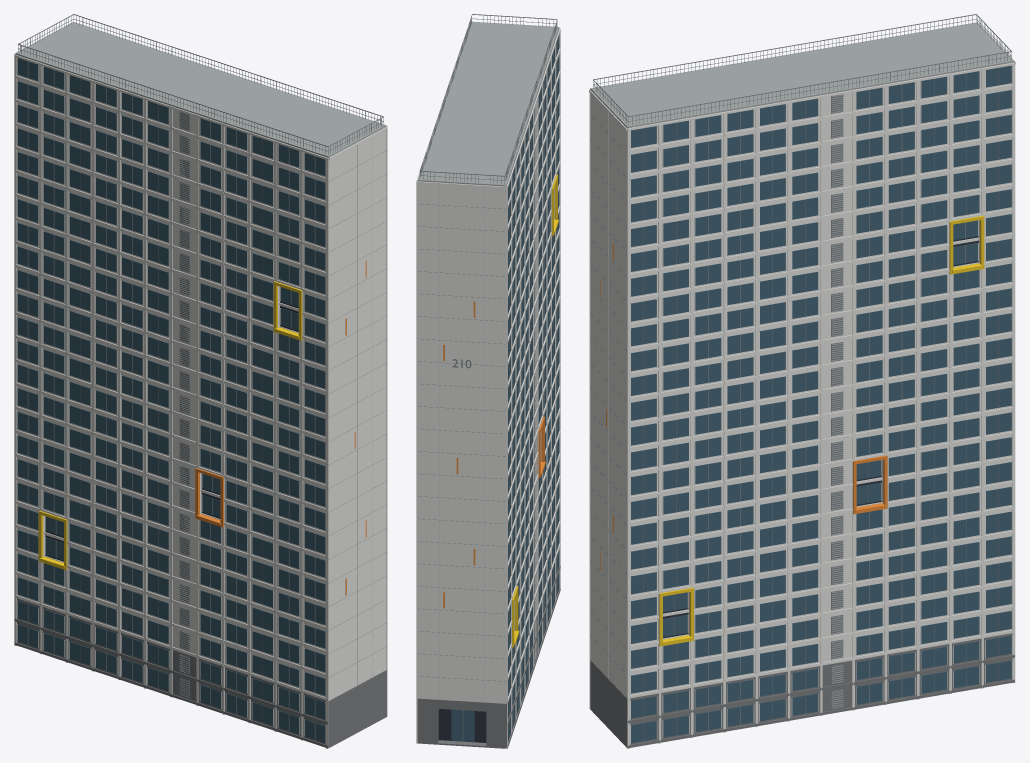
The model's file is bespoke-songpa-helio-city-210.glb.
3 renders of one model, left to right at view 1: azimuth 30°, elevation 25°; view 2: azimuth 150°, elevation 25°; view 3: azimuth 270°, elevation 25°, orthographic. The views are drawn at different scales.
Visible parts, largest first — view 1: Helio210_editable_Helio210_white_slab_frames, Helio210_editable_Helio210_dark_blue_grey_glazing, Helio210_editable_Helio210_low_roof_deck, Helio210_editable_Helio210_grey_service_grille, Helio210_editable_Helio210_dark_grey_twofloor_base, Helio210_editable_Helio210_blankwall_grey_panels, Helio210_editable_Helio210_yellow_projecting_rectangular_fra, Helio210_editable_Helio210_orange_narrow_accent; view 2: Helio210_editable_Helio210_white_slab_frames, Helio210_editable_Helio210_dark_blue_grey_glazing, Helio210_editable_Helio210_low_roof_deck, Helio210_editable_Helio210_grey_service_grille, Helio210_editable_Helio210_dark_grey_twofloor_base, Helio210_editable_Helio210_blankwall_grey_panels, Helio210_editable_Helio210_deep_shaded_frame_recess, Helio210_editable_Helio210_yellow_projecting_rectangular_fra, Helio210_editable_Helio210_orange_narrow_accent; view 3: Helio210_editable_Helio210_dark_blue_grey_glazing, Helio210_editable_Helio210_white_slab_frames, Helio210_editable_Helio210_low_roof_deck, Helio210_editable_Helio210_grey_service_grille, Helio210_editable_Helio210_dark_grey_twofloor_base, Helio210_editable_Helio210_blankwall_grey_panels, Helio210_editable_Helio210_yellow_projecting_rectangular_fra, Helio210_editable_Helio210_orange_narrow_accent.
Boxes of the visible parts, box(x1,y1,x2,y2) form: Helio210_editable_Helio210_white_slab_frames: box(14, 54, 387, 748); Helio210_editable_Helio210_dark_blue_grey_glazing: box(17, 58, 325, 742); Helio210_editable_Helio210_low_roof_deck: box(15, 22, 386, 157); Helio210_editable_Helio210_grey_service_grille: box(18, 14, 386, 739); Helio210_editable_Helio210_dark_grey_twofloor_base: box(14, 598, 386, 748); Helio210_editable_Helio210_blankwall_grey_panels: box(179, 112, 372, 697); Helio210_editable_Helio210_yellow_projecting_rectangular_fra: box(38, 281, 302, 570); Helio210_editable_Helio210_orange_narrow_accent: box(195, 260, 366, 595); Helio210_editable_Helio210_white_slab_frames: box(416, 24, 560, 748); Helio210_editable_Helio210_dark_blue_grey_glazing: box(451, 35, 559, 741); Helio210_editable_Helio210_low_roof_deck: box(417, 21, 559, 186); Helio210_editable_Helio210_grey_service_grille: box(418, 14, 557, 741); Helio210_editable_Helio210_dark_grey_twofloor_base: box(417, 566, 560, 748); Helio210_editable_Helio210_blankwall_grey_panels: box(439, 103, 536, 702); Helio210_editable_Helio210_deep_shaded_frame_recess: box(438, 709, 486, 742); Helio210_editable_Helio210_yellow_projecting_rectangular_fra: box(510, 174, 558, 647); Helio210_editable_Helio210_orange_narrow_accent: box(443, 301, 545, 608); Helio210_editable_Helio210_dark_blue_grey_glazing: box(630, 65, 1011, 743); Helio210_editable_Helio210_white_slab_frames: box(589, 26, 1015, 748); Helio210_editable_Helio210_low_roof_deck: box(590, 22, 1014, 128); Helio210_editable_Helio210_grey_service_grille: box(590, 14, 1011, 741); Helio210_editable_Helio210_dark_grey_twofloor_base: box(590, 633, 1014, 748); Helio210_editable_Helio210_blankwall_grey_panels: box(608, 95, 843, 708); Helio210_editable_Helio210_yellow_projecting_rectangular_fra: box(659, 215, 984, 646); Helio210_editable_Helio210_orange_narrow_accent: box(600, 243, 887, 570).
Size of the model in its own units: 25.58 by 71 by 43.55.
